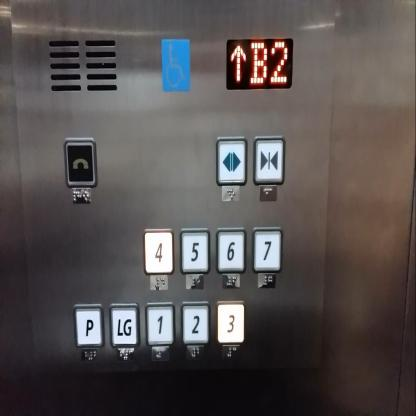1: (143, 298, 177, 349)
2: (178, 297, 212, 349)
3: (214, 297, 247, 347)
4: (142, 224, 176, 277)
5: (178, 224, 212, 277)
6: (214, 224, 247, 277)
7: (250, 222, 284, 275)
CH: (160, 35, 191, 94)
LG: (107, 298, 142, 350)
P: (71, 300, 106, 352)
call: (62, 133, 99, 189)
close: (251, 132, 287, 186)
led: (224, 35, 294, 90)
open: (213, 133, 249, 187)
